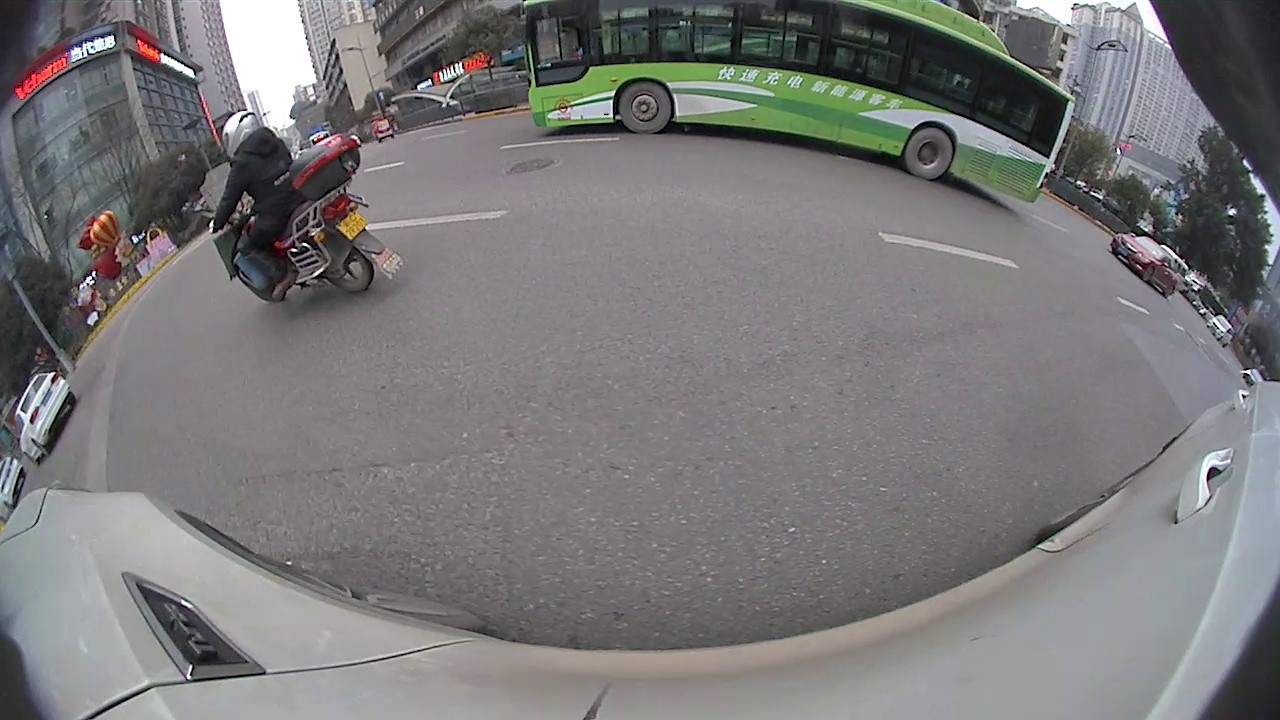bus: (528, 1, 1072, 201)
car: (18, 371, 76, 466), (1109, 232, 1182, 299)
front: (617, 81, 674, 137), (1140, 261, 1158, 283)
rear: (310, 245, 374, 293), (903, 127, 955, 179), (1163, 281, 1177, 301)
rider: (208, 111, 375, 300)
